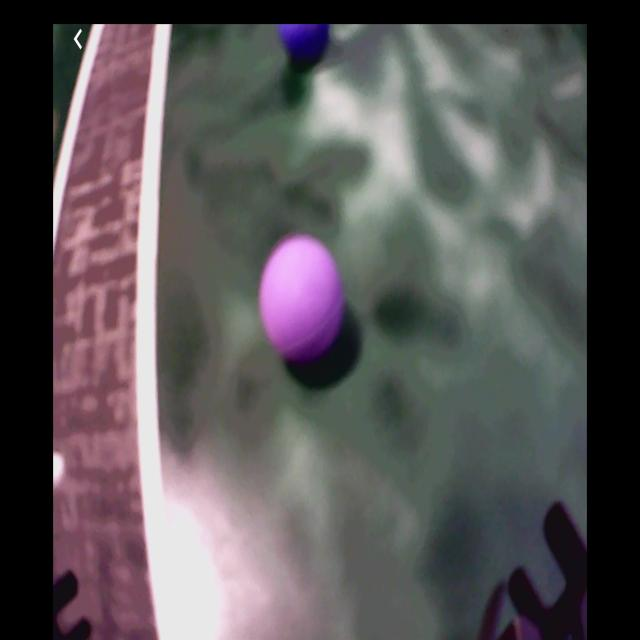ball: (261, 237, 345, 368), (280, 27, 332, 66)
